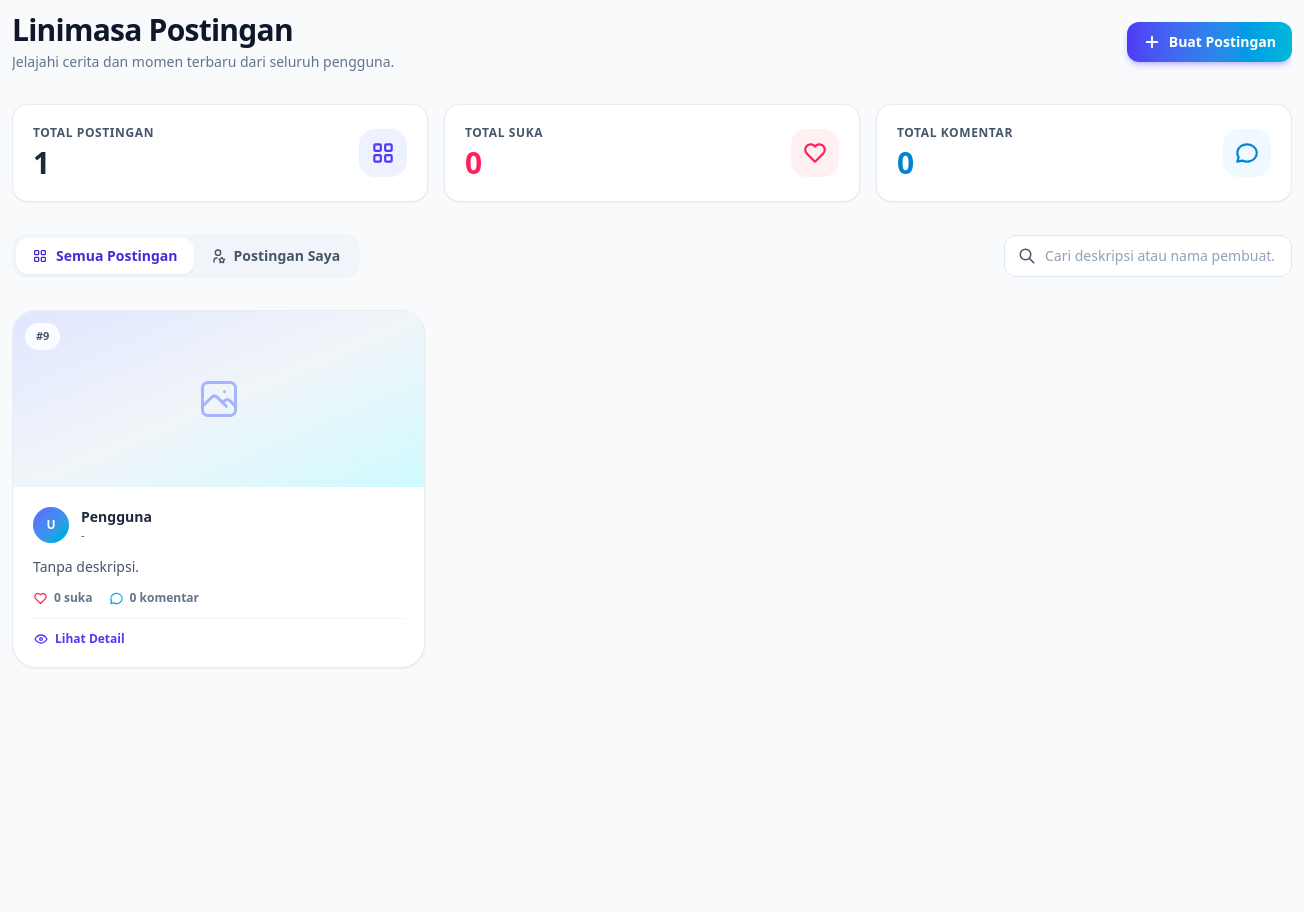
it: HomePage › should ignore posts without description and author while searching
Type "apapun" into the field with test id "search-post-input". click: (1148,256)
box: [1004,235,1292,277]
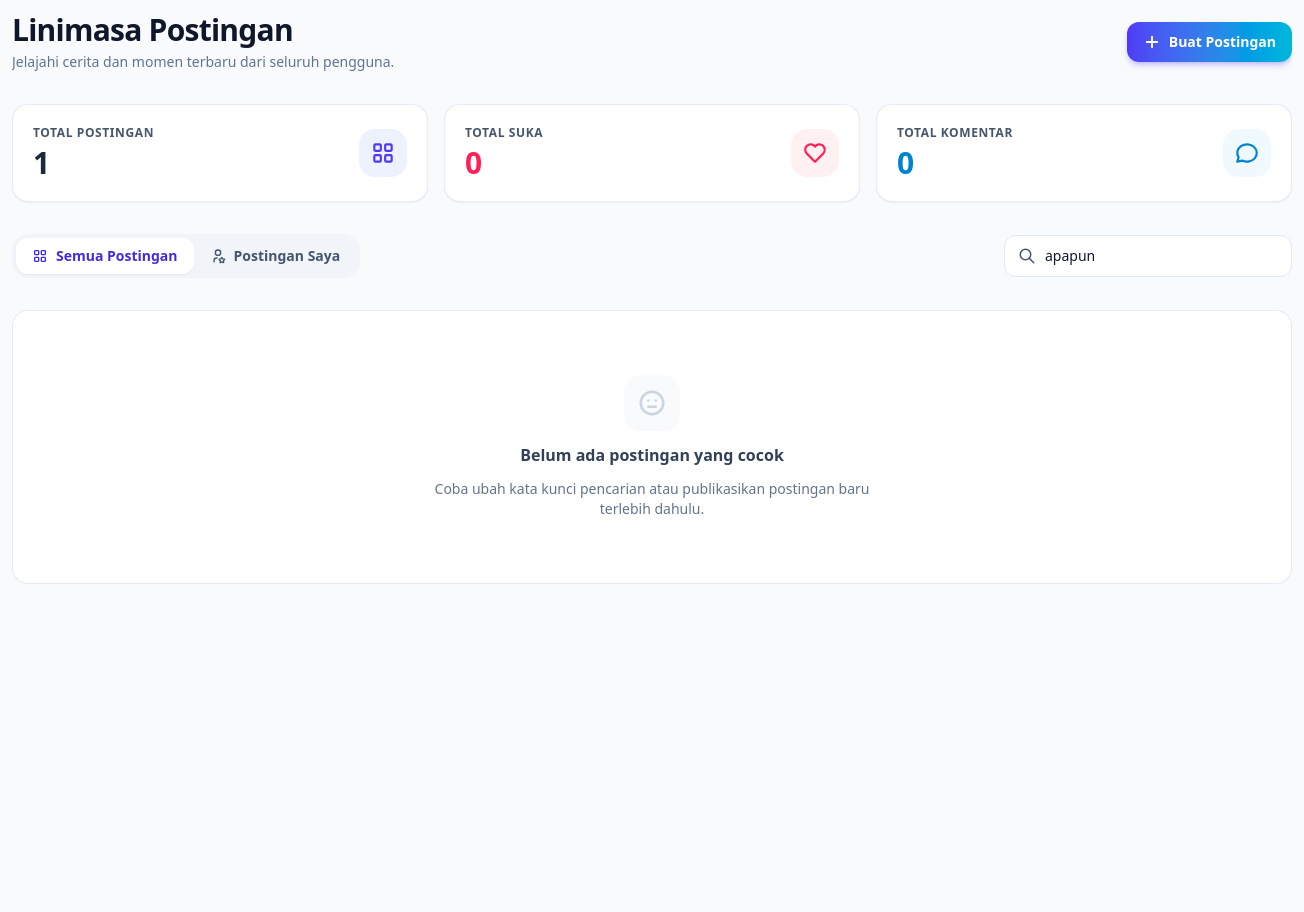
Check: the text "Belum ada postingan yang cocok" is shown, box [520,443,784,467]
